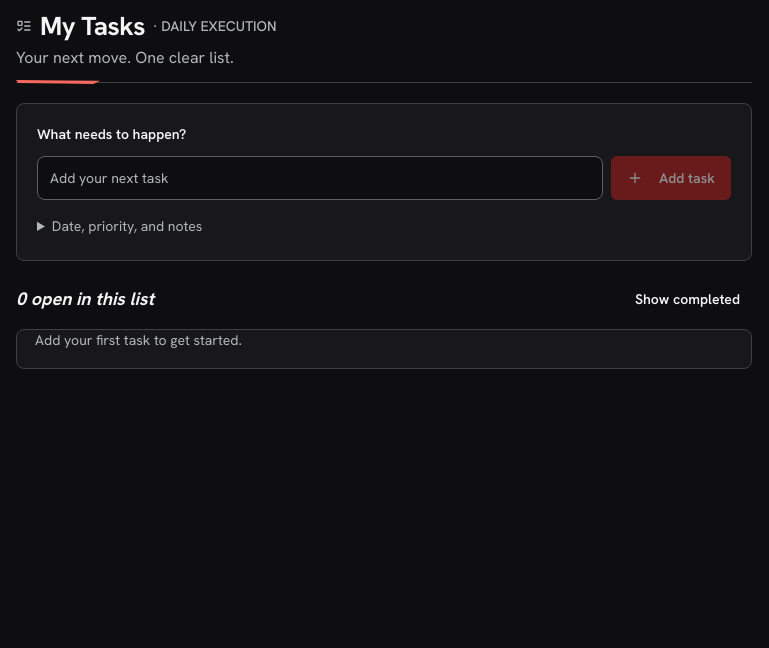
My Tasks › creates a task with optional details, then shows the saved record
The image size is (769, 648).
Check: the text "Add your first task to get started." is shown, box top-left (35, 331), bottom-right (242, 349)
Type "Prepare tomorrow's calls" into the field labelled "What needs to happen?" at (320, 178), box top-left (37, 156), bottom-right (603, 200)
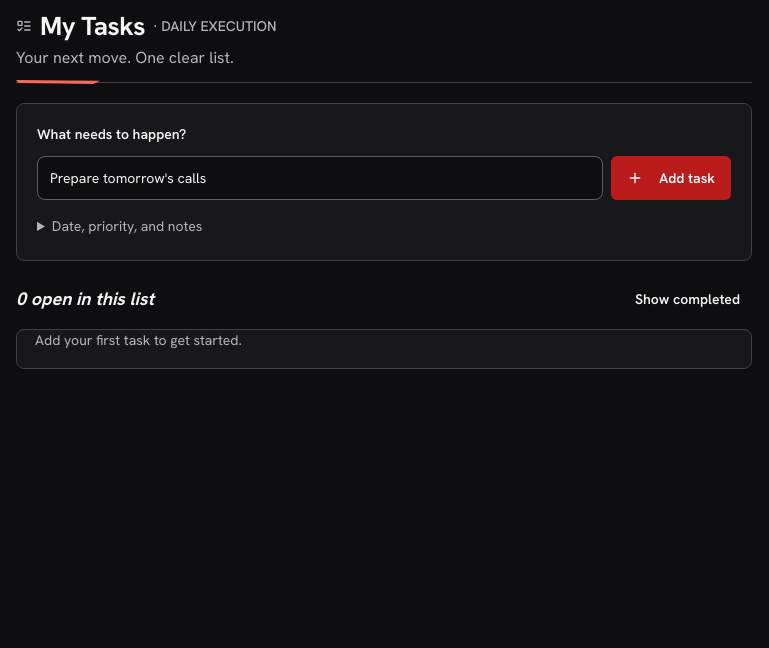
Click the heading "Date, priority, and notes" at (120, 226), box top-left (37, 212), bottom-right (202, 240)
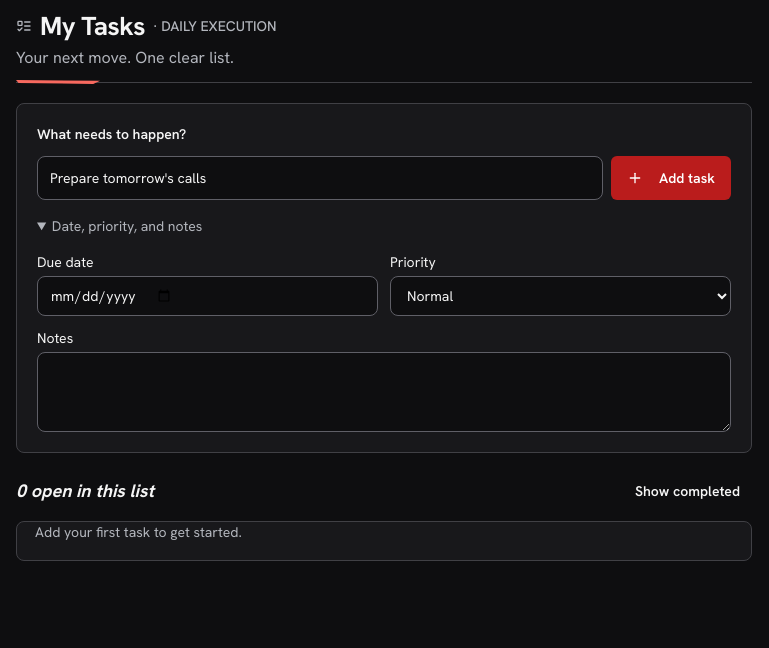
Type "2026-11-26" into the date field labelled "Due date" at (208, 296), box top-left (37, 276), bottom-right (378, 316)
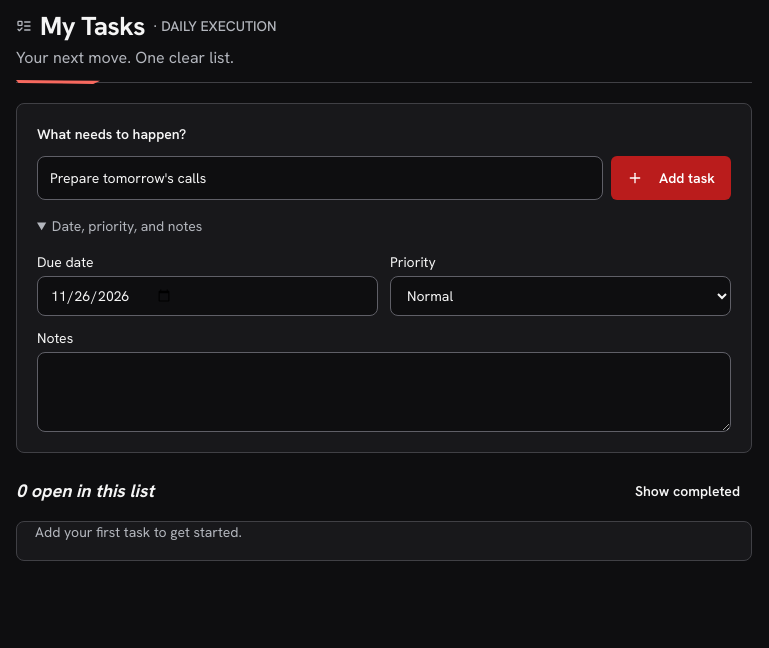
Select "High" in the dropdown labelled "Priority" at (560, 296), box top-left (390, 276), bottom-right (731, 316)
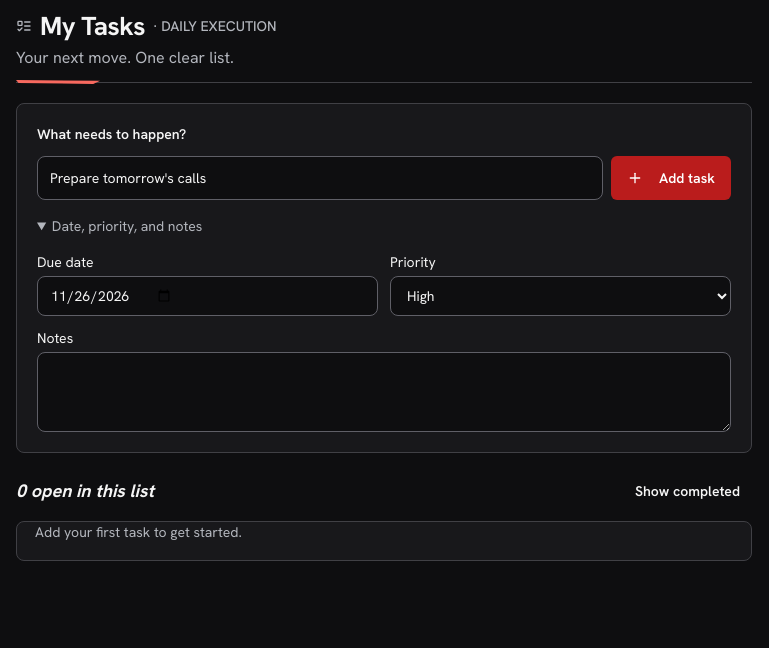
Type "Review the contact list" into the text box named "Task notes" at (384, 392), box top-left (37, 352), bottom-right (731, 432)
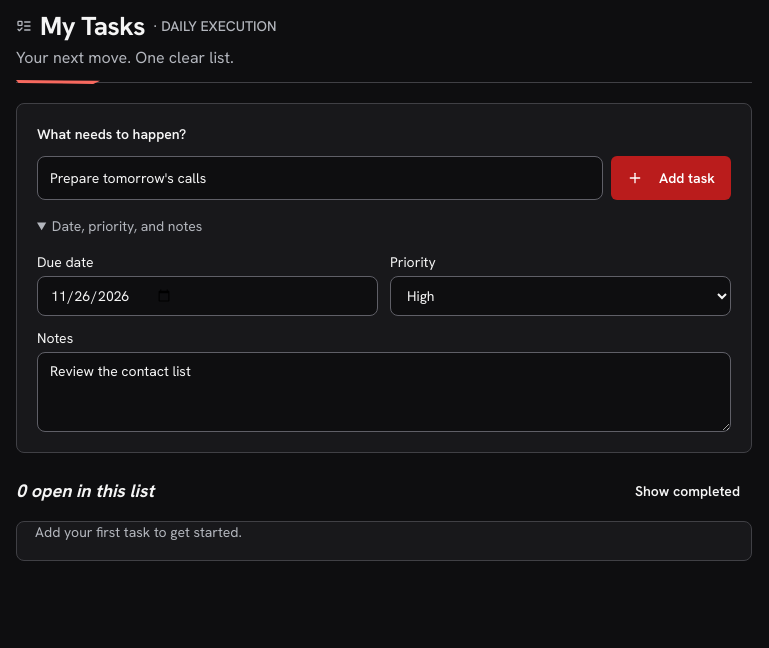
Click the button "Add task" at (671, 178), box top-left (611, 156), bottom-right (731, 200)
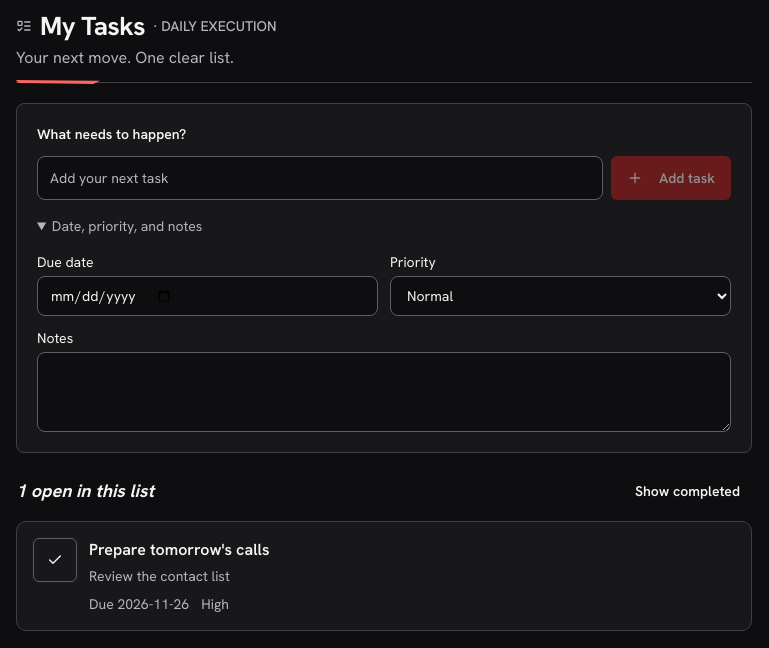
Check: the text "Prepare tomorrow's calls" is shown, box top-left (89, 539), bottom-right (269, 560)
Check: the field labelled "What needs to happen?" is empty, box top-left (37, 156), bottom-right (603, 200)
